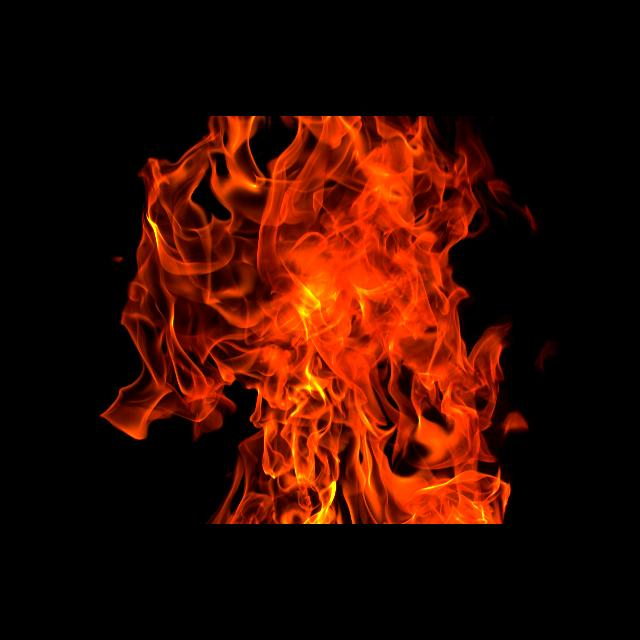fire: (150, 116, 508, 525)
